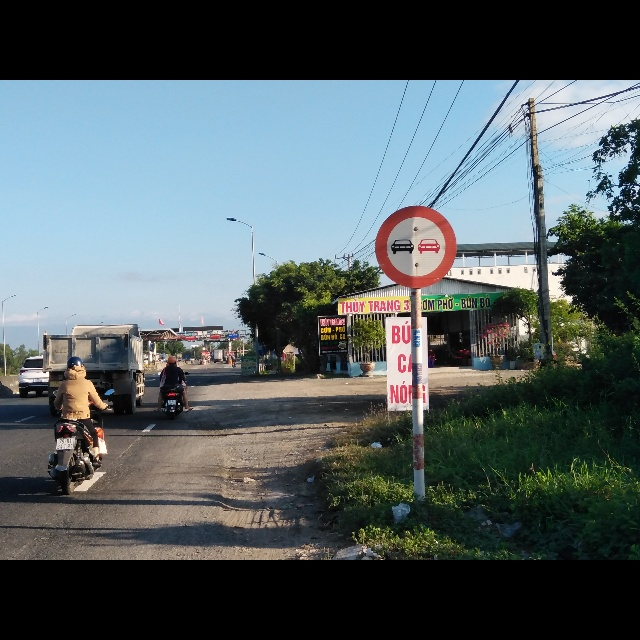Cấm vượt: (373, 203, 458, 287)
